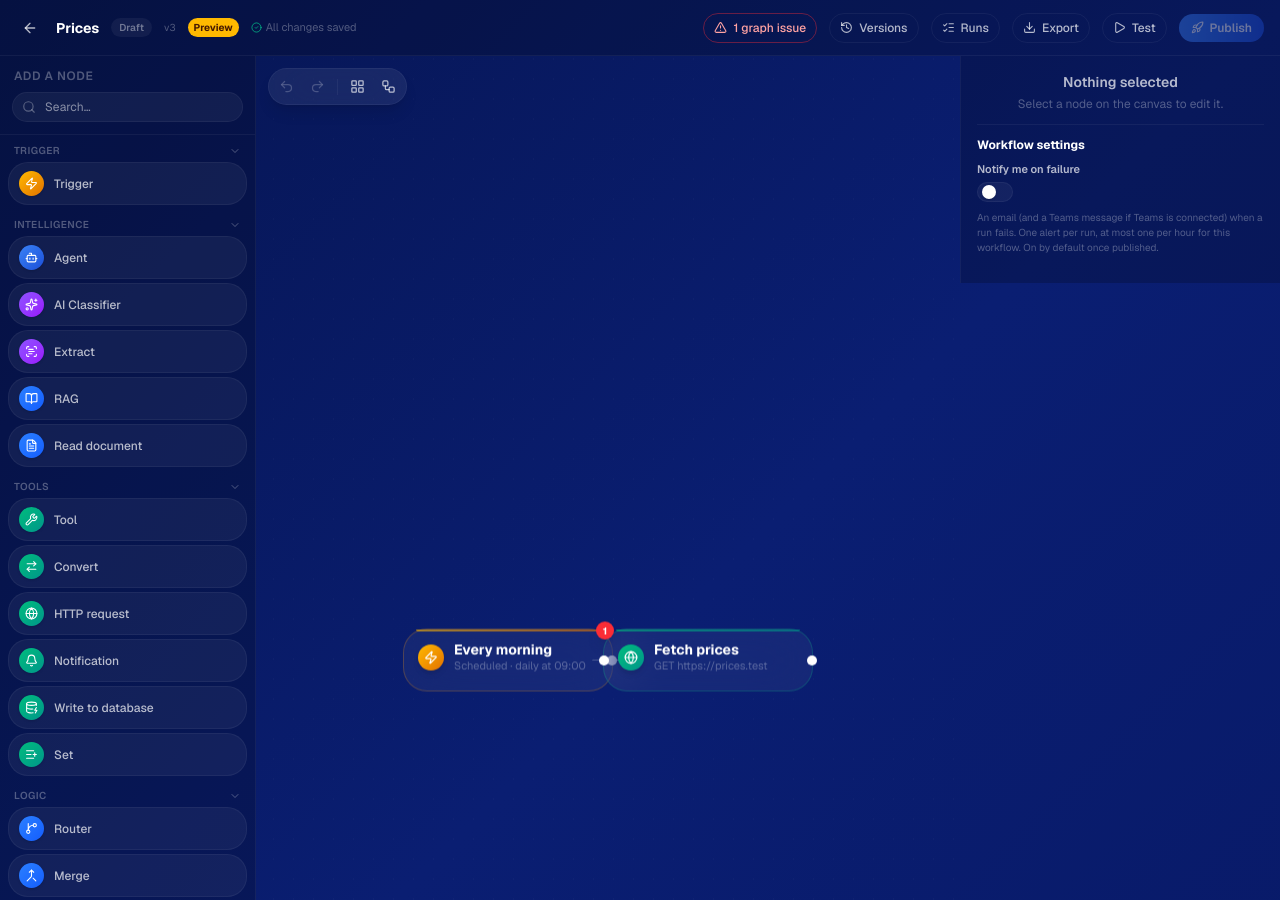
it: Failure alert and the missing error handling warning › warns on a draft, whose failure alert is off until published
Expected: the button "Runs" is shown, [930,12,1000,42]
Click the button "1 graph issue": (760, 28) [703,12,817,42]
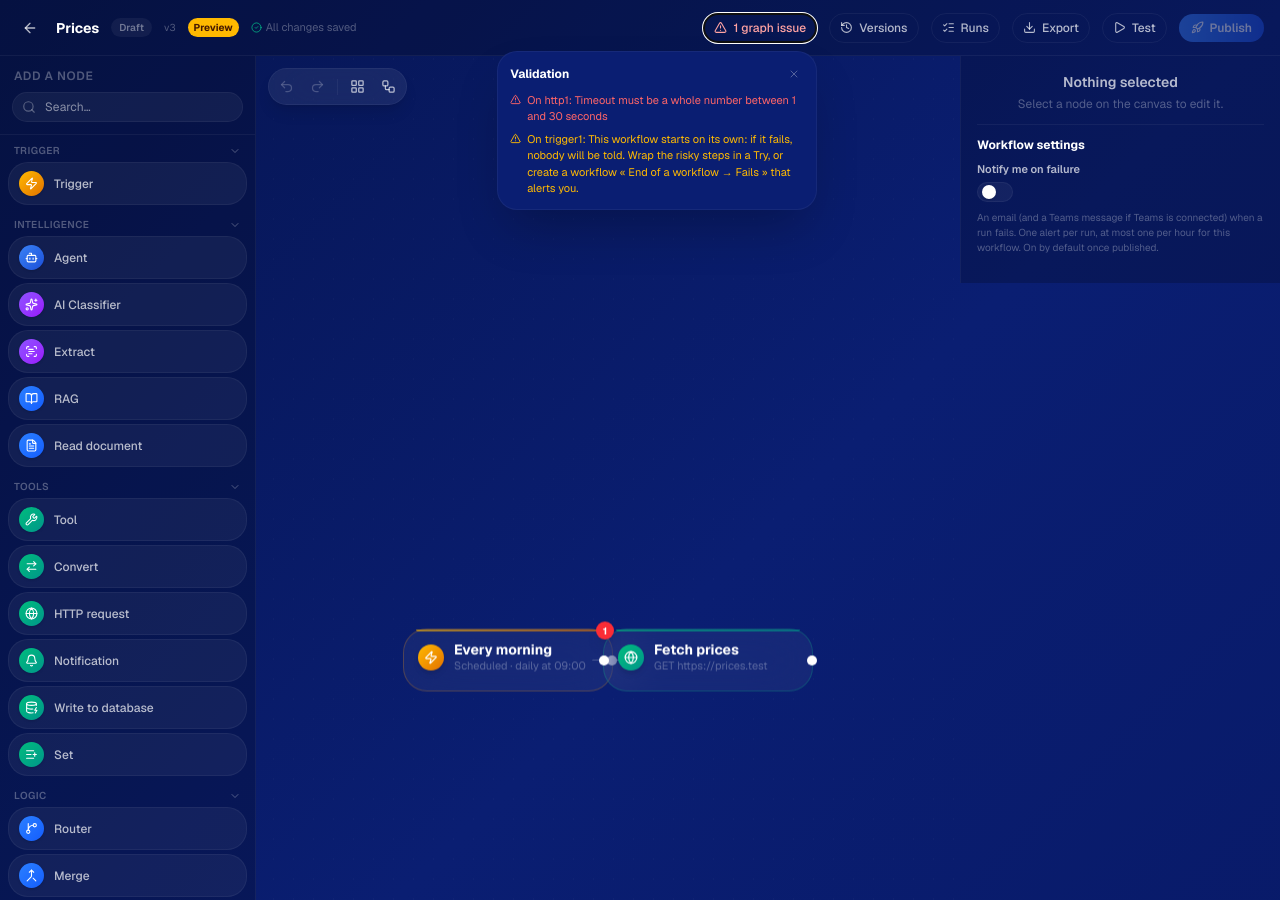
Expected: the text "starts on its own" is shown, [527,132,792,195]
